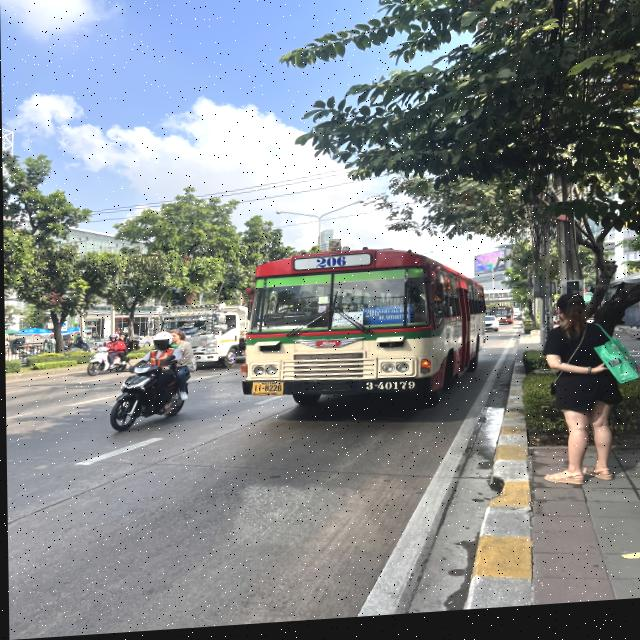BMTA-bus: (240, 253, 484, 416), (488, 313, 514, 333)
Bus Line Number: (309, 259, 352, 275)
Bus Side Number: (362, 383, 416, 401)
Destination Sign: (362, 310, 411, 331)
